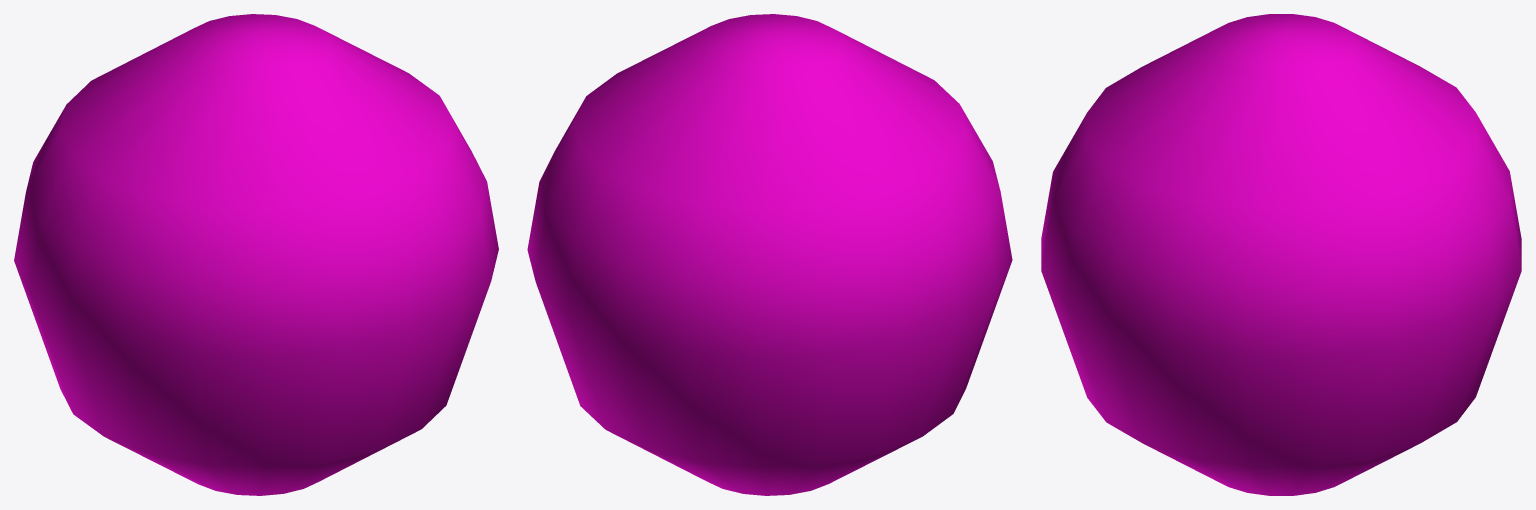
The model's file is geo_EnemyTooth_1.fbx.
3 views of the same model, side by side, from view 1: azimuth 30°, elevation 25°; view 2: azimuth 150°, elevation 25°; view 3: azimuth 270°, elevation 25° (orthographic).
Parts seen in each view (by area): view 1: geo_EnemyToothEye_L3; view 2: geo_EnemyToothEye_L3; view 3: geo_EnemyToothEye_L3.
Boxes of the visible parts, bbox=[...] form: geo_EnemyToothEye_L3: bbox=[14, 14, 498, 495]; geo_EnemyToothEye_L3: bbox=[527, 14, 1012, 495]; geo_EnemyToothEye_L3: bbox=[1041, 14, 1521, 495].
Bounding box in the file's own units: 12.56 × 12.71 × 12.56.
